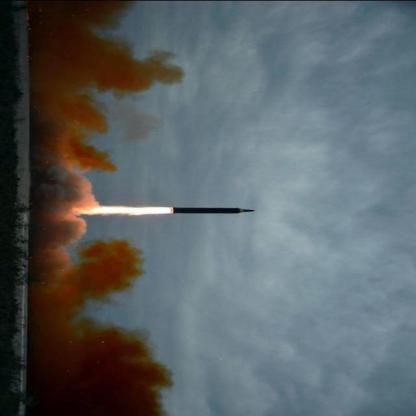MIL_TBM: (168, 203, 261, 218)
